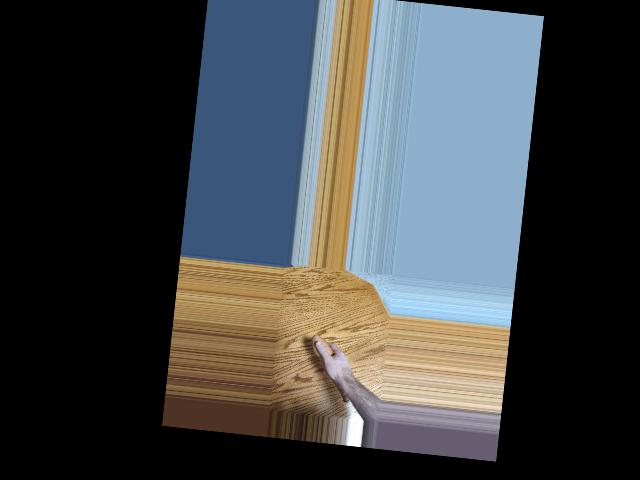sweet_potato: (304, 333, 355, 404)
